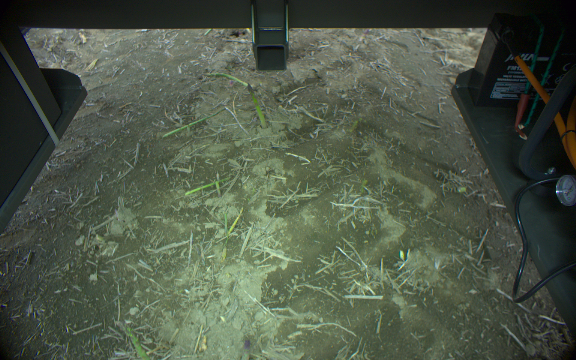aspa: (162, 107, 227, 138), (244, 82, 268, 129), (184, 175, 232, 198), (205, 69, 251, 87), (125, 324, 148, 360), (226, 207, 245, 238), (212, 172, 223, 198), (222, 211, 227, 237)
